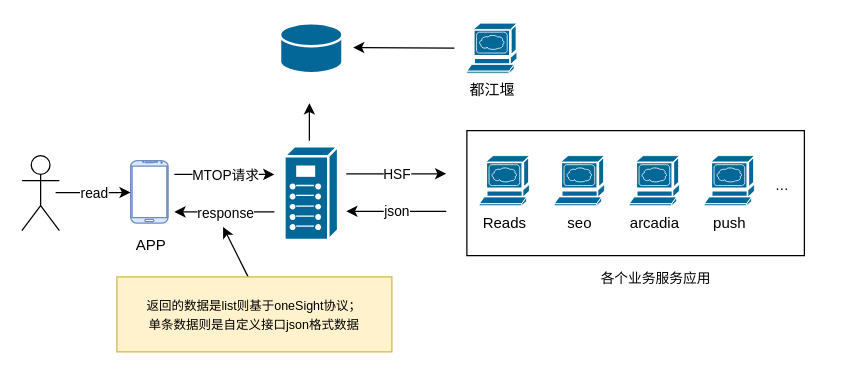
Image size: 851x374. Some labels were removed from this diagram. The centre of each missing label's shape, as x and y in pixels:
"Diamond" belongs at point 310,47.
"User" belongs at point 40,192.
"无线网关应用" belongs at point 310,192.
